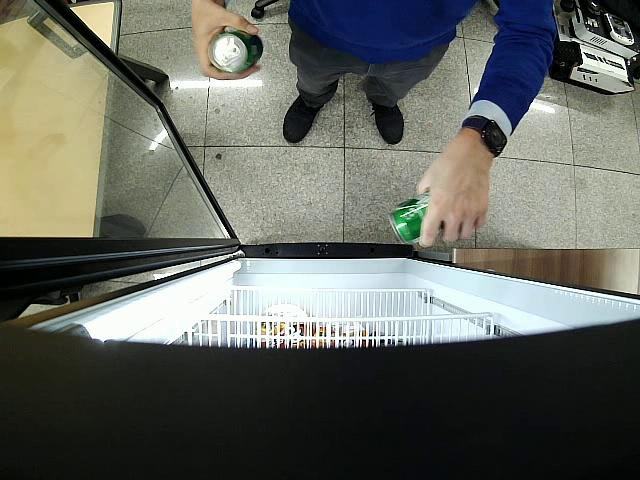00_hand: (417, 140, 489, 248), (192, 0, 262, 80)
12_chilsungCider: (388, 191, 444, 245), (207, 31, 263, 74)
